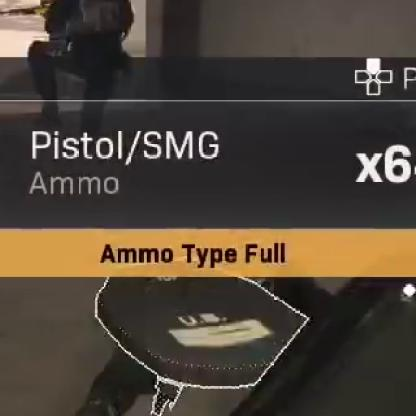enemy: (6, 1, 138, 116)
